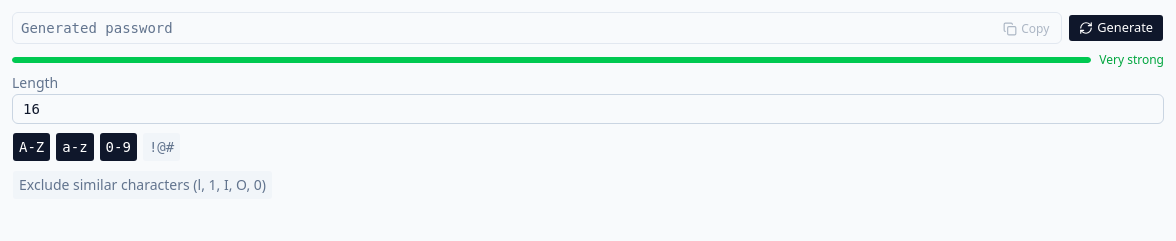
Test: PasswordGeneratorWidget › disables Generate and shows an error once every character set is turned off
Defaults are A-Z, a-z, 0-9 on and !@# off — turn off the three that are on.
Click the button "A-Z" at (32, 147), box top-left (12, 132), bottom-right (51, 162)
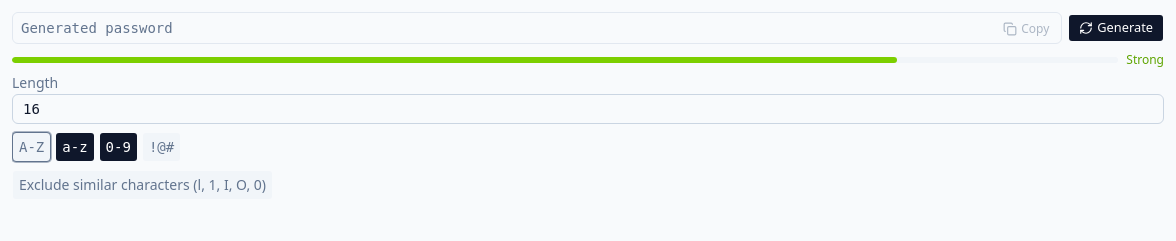
Click the button "a-z" at (75, 147), box top-left (55, 132), bottom-right (95, 162)
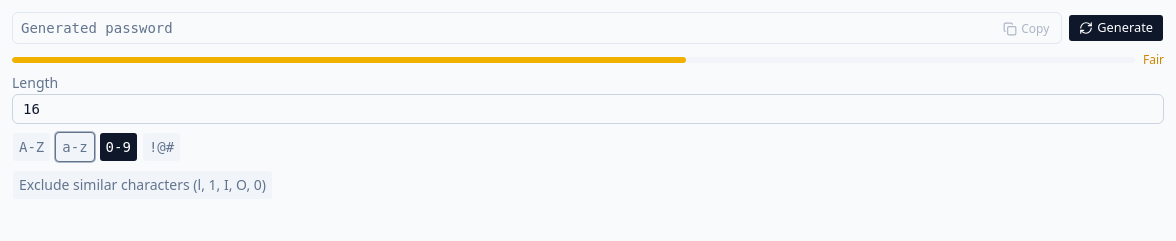
Click the button "0-9" at (118, 147), box top-left (99, 132), bottom-right (138, 162)
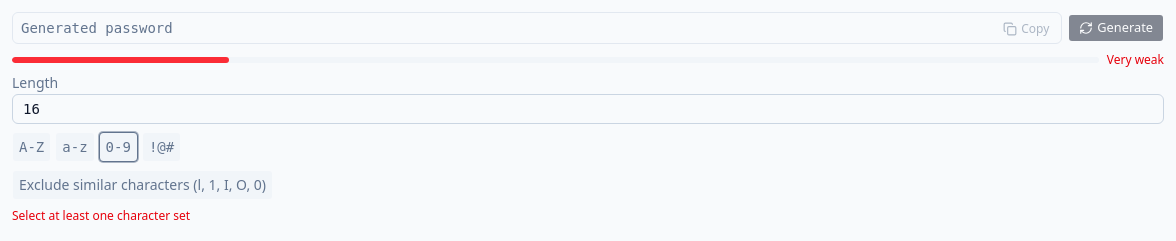
Now the button "Generate" is disabled, box top-left (1068, 14), bottom-right (1164, 42)
Now the text "Select at least one character set" is shown, box top-left (12, 207), bottom-right (190, 224)
